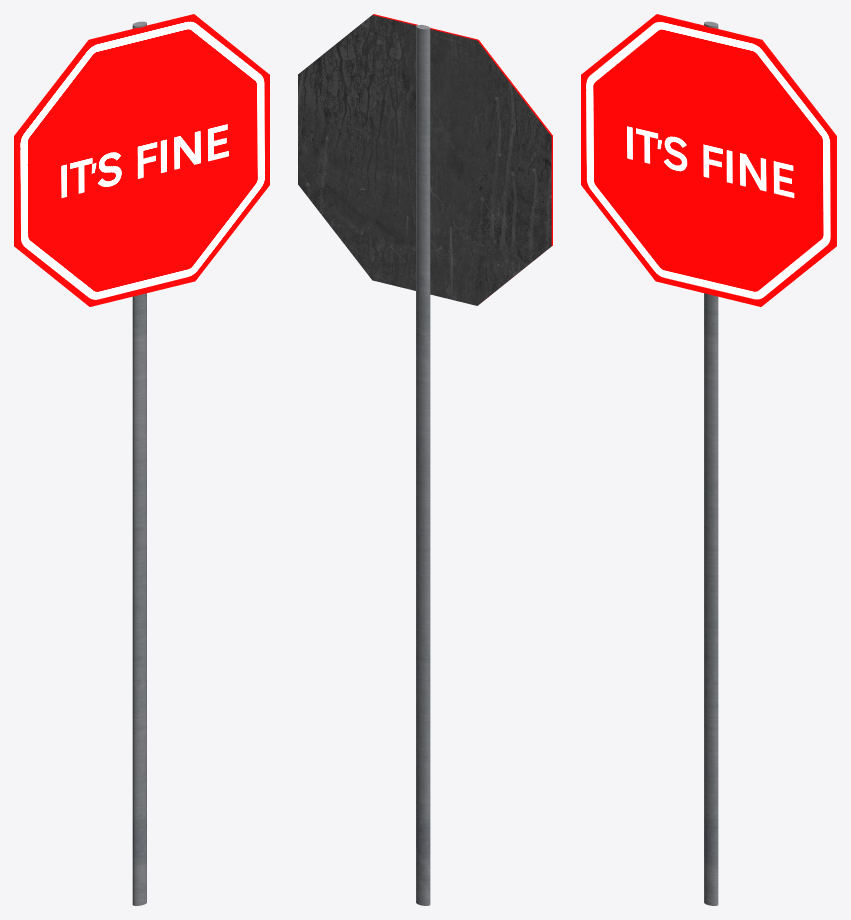
Rendered from it-fine.gltf.
3 renders of one model, left to right at view 1: azimuth 30°, elevation 25°; view 2: azimuth 150°, elevation 25°; view 3: azimuth 330°, elevation 25°, orthographic.
Parts seen in each view (by area): view 1: Circle.001, PoleA_50.8_2800mm_A_.063; view 2: Circle.001, PoleA_50.8_2800mm_A_.063; view 3: Circle.001, PoleA_50.8_2800mm_A_.063.
Part boxes in pixels (left/top/right/bottom): Circle.001: left=14, top=14, right=269, bottom=306; PoleA_50.8_2800mm_A_.063: left=132, top=21, right=146, bottom=905; Circle.001: left=298, top=14, right=552, bottom=305; PoleA_50.8_2800mm_A_.063: left=416, top=24, right=430, bottom=905; Circle.001: left=581, top=14, right=836, bottom=306; PoleA_50.8_2800mm_A_.063: left=704, top=21, right=718, bottom=905.
Size of the model in its own units: 0.6349 by 2.1 by 0.0228.
Materials: 3 (3 with a texture image).
